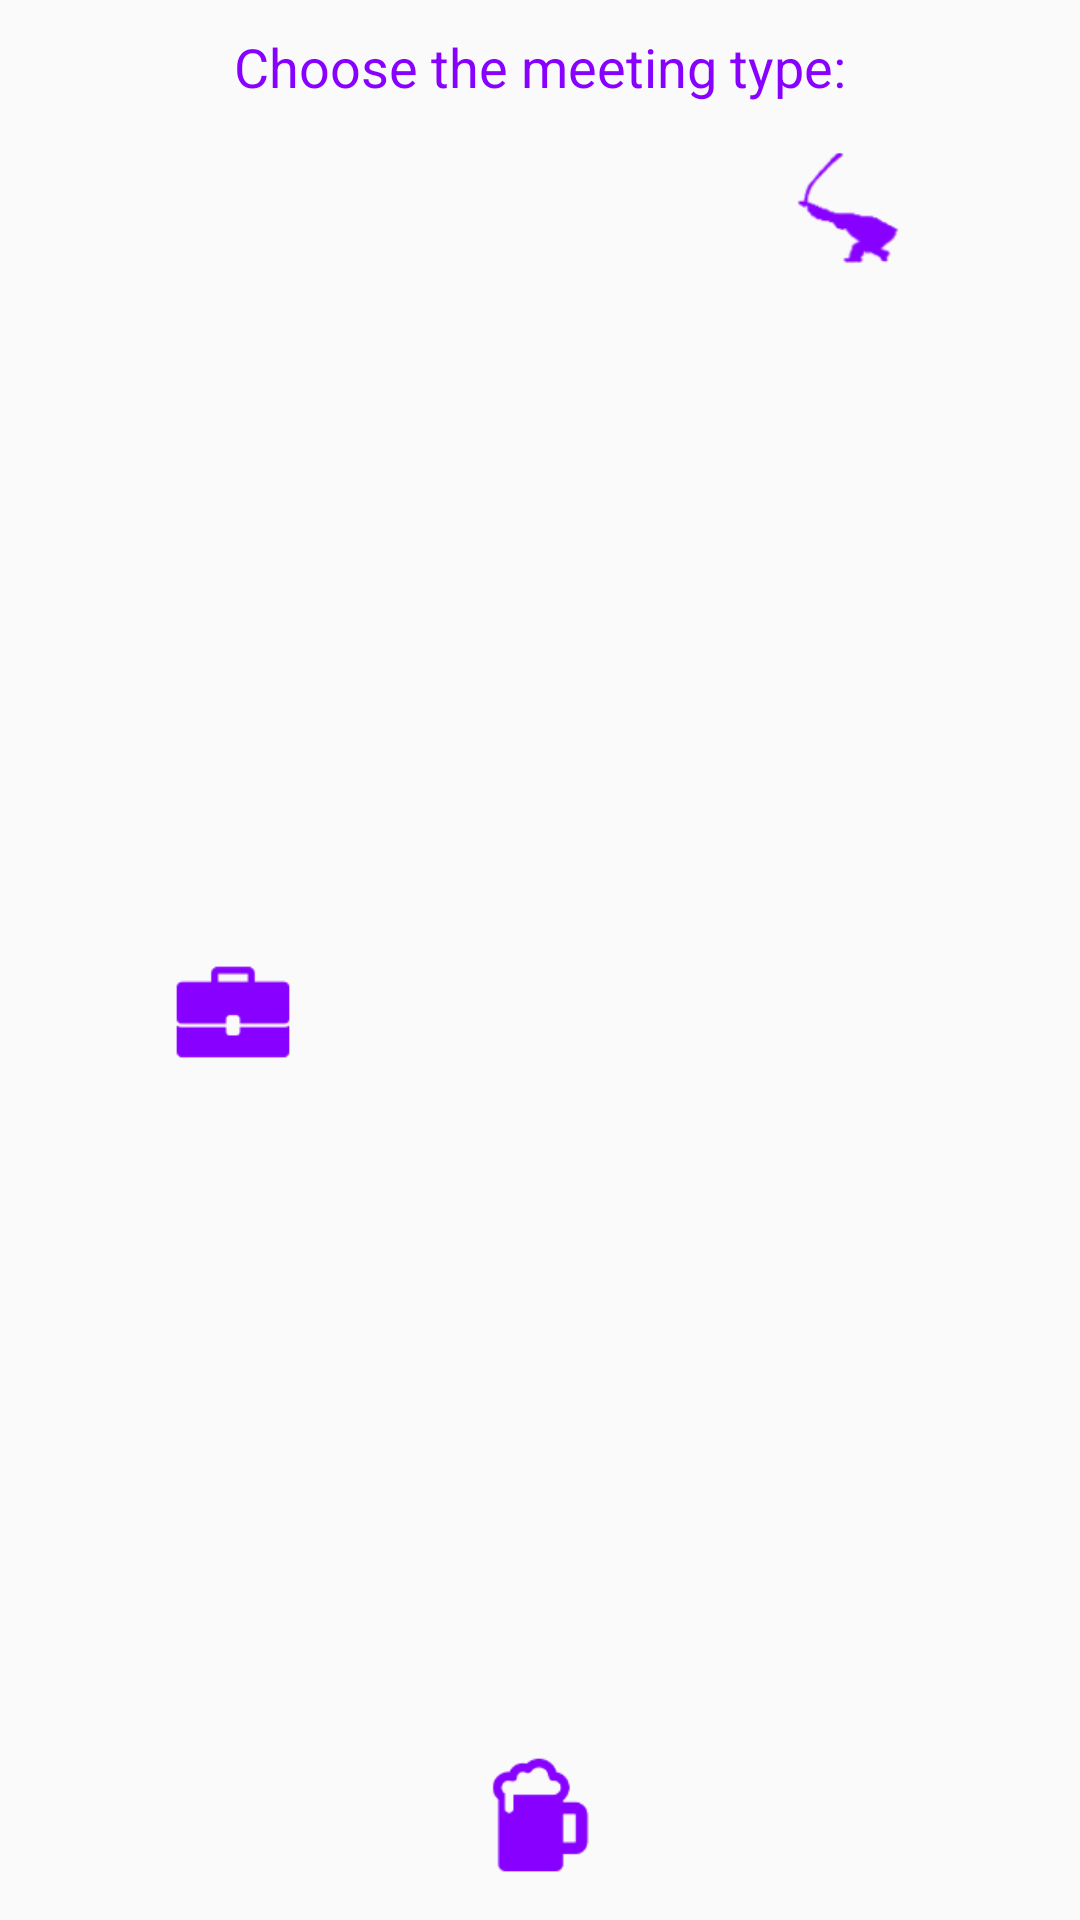

Named icons in this screenshot (1080*1920) and their centers, (x=x, y=y):
beer: (x=540, y=1815)
case: (x=233, y=1012)
